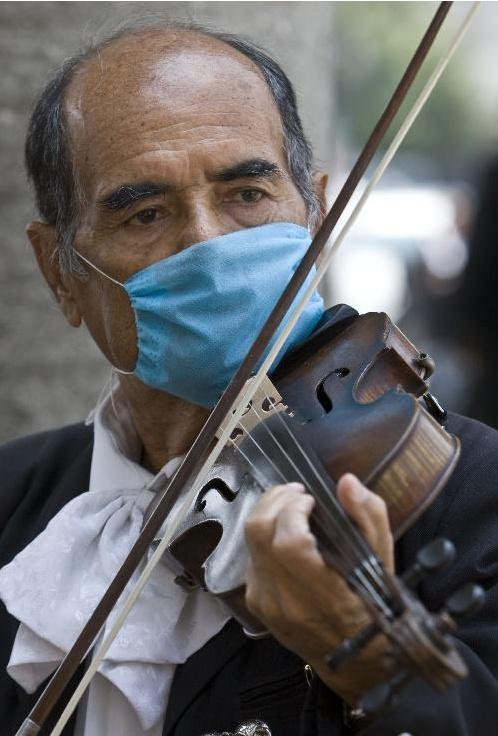WRONG: (89, 131, 316, 408)
